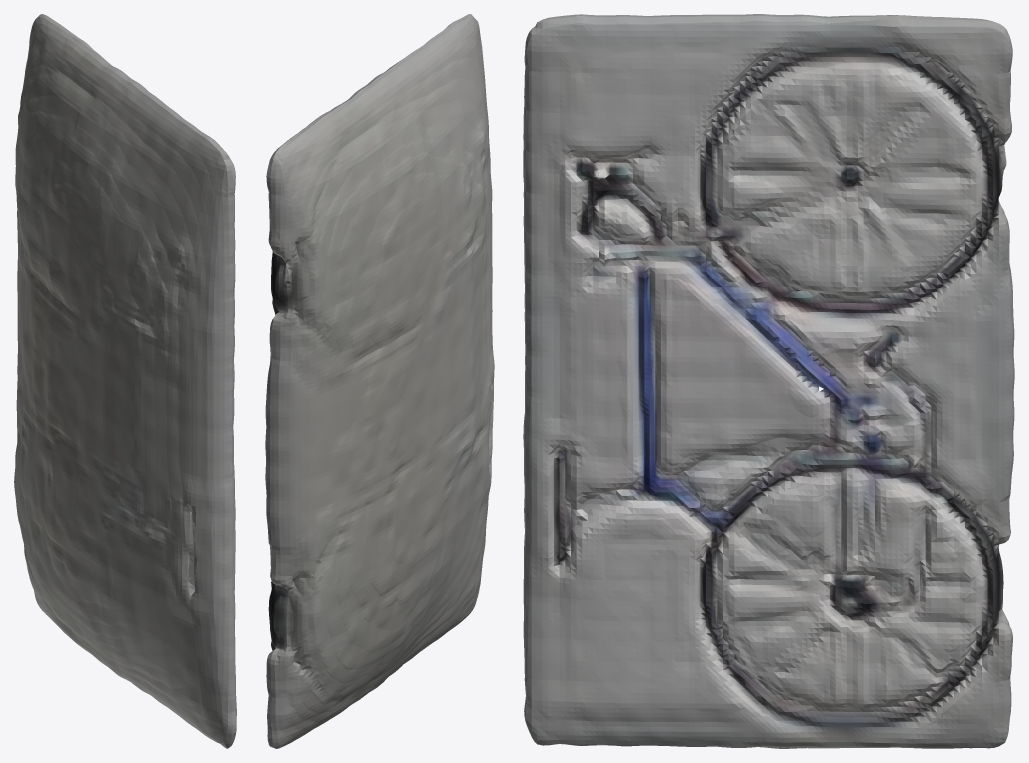
Rendered from 000001_racing bicycle_racer_racing bike.glb.
3 renders of one model, left to right at view 1: azimuth 30°, elevation 25°; view 2: azimuth 150°, elevation 25°; view 3: azimuth 270°, elevation 25°, orthographic. The views are drawn at different scales.
Visible parts, largest first — view 1: world; view 2: world; view 3: world.
Boxes of the visible parts, x1,y1,x2,y2 form: world: [14, 14, 236, 748]; world: [265, 14, 494, 748]; world: [523, 14, 1014, 748].
Bounding box in the file's own units: 0.1224 × 0.9794 × 0.5955.
